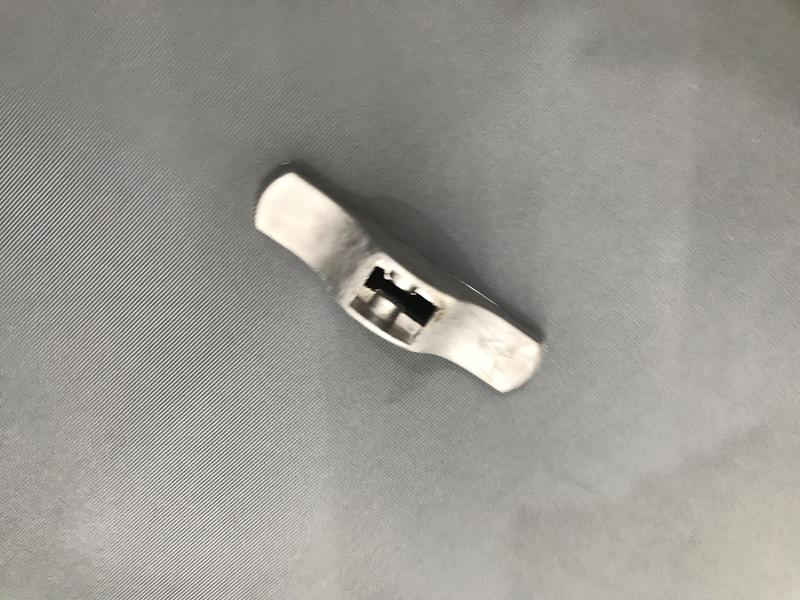zapchast: (231, 141, 559, 420)
